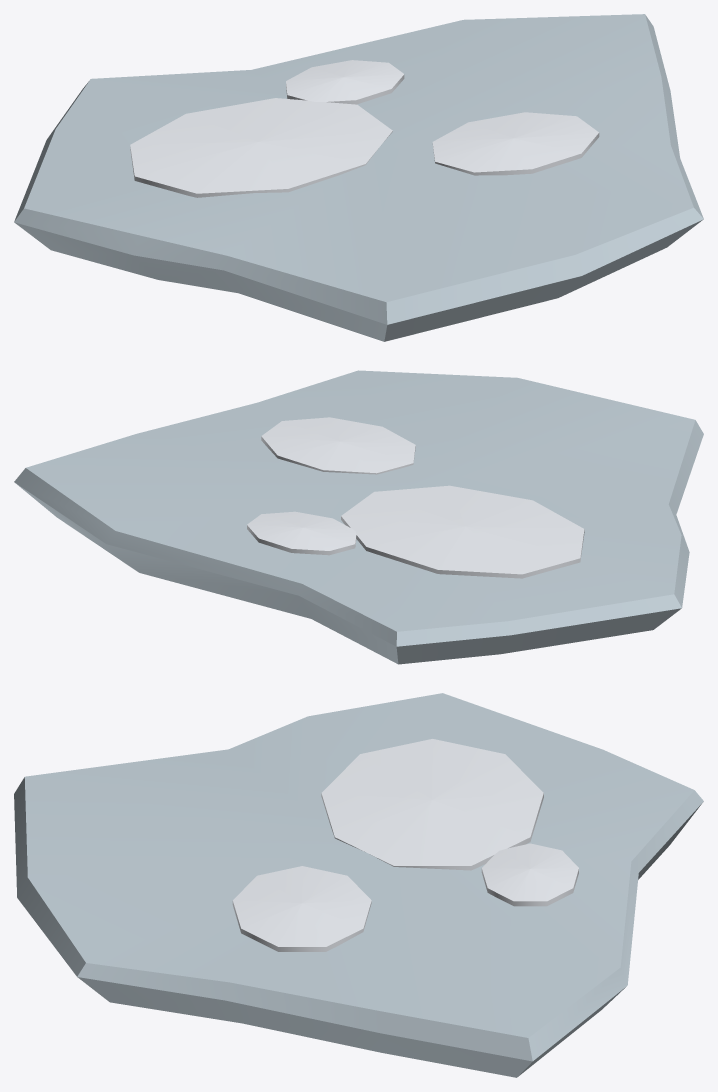
File: ice_floe.glb
3 renders of one model, top to bottom at view 1: azimuth 30°, elevation 25°; view 2: azimuth 150°, elevation 25°; view 3: azimuth 270°, elevation 25°, orthographic. The views are drawn at different scales.
Parts seen in each view (by area): view 1: ice_floe, snow; view 2: ice_floe, snow; view 3: ice_floe, snow.
Part boxes in pixels (bbox=[...]): ice_floe: bbox=[14, 14, 703, 341]; snow: bbox=[130, 60, 599, 197]; ice_floe: bbox=[14, 370, 703, 664]; snow: bbox=[247, 417, 584, 578]; ice_floe: bbox=[14, 693, 703, 1077]; snow: bbox=[232, 739, 578, 951].
Bounding box in the file's own units: 5.23 × 0.44 × 4.23.
